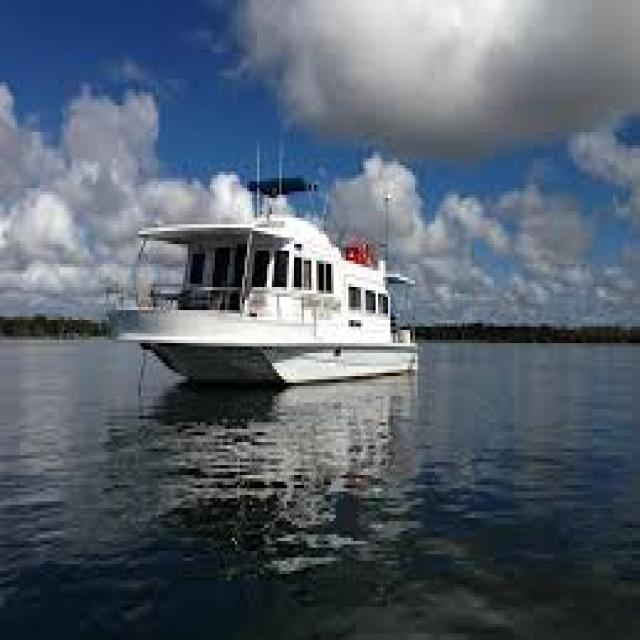houseboat: (129, 156, 427, 396)
